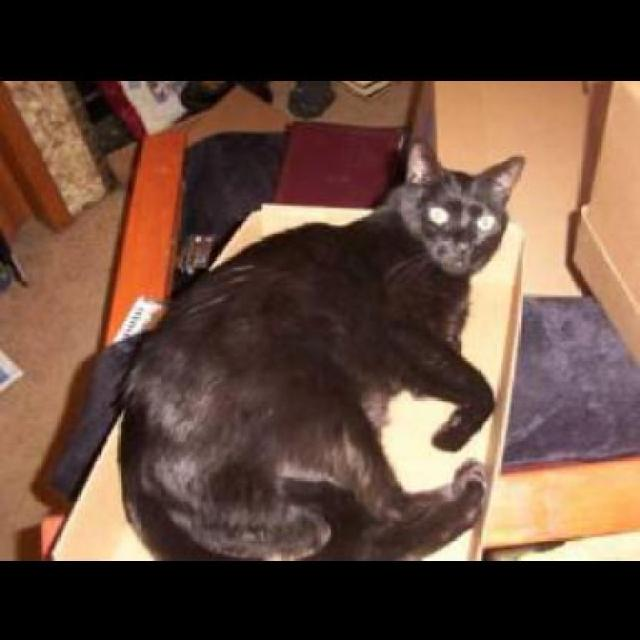unauthorized: (106, 137, 525, 560)
